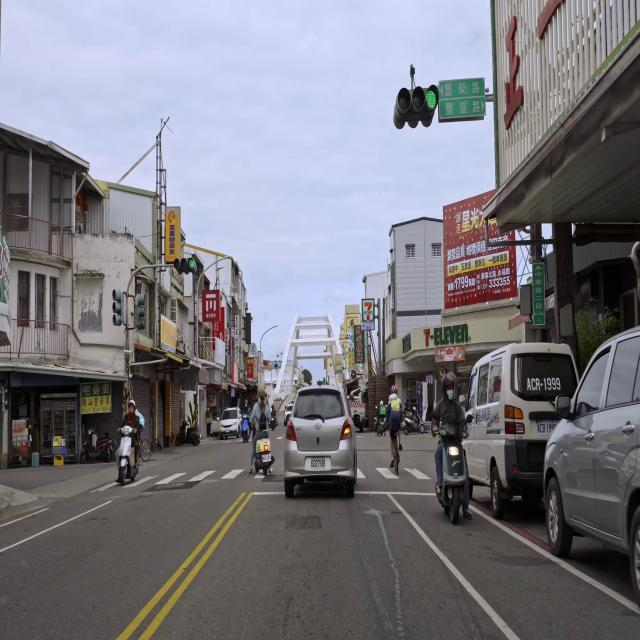green light: (397, 87, 439, 113), (174, 258, 194, 270)
